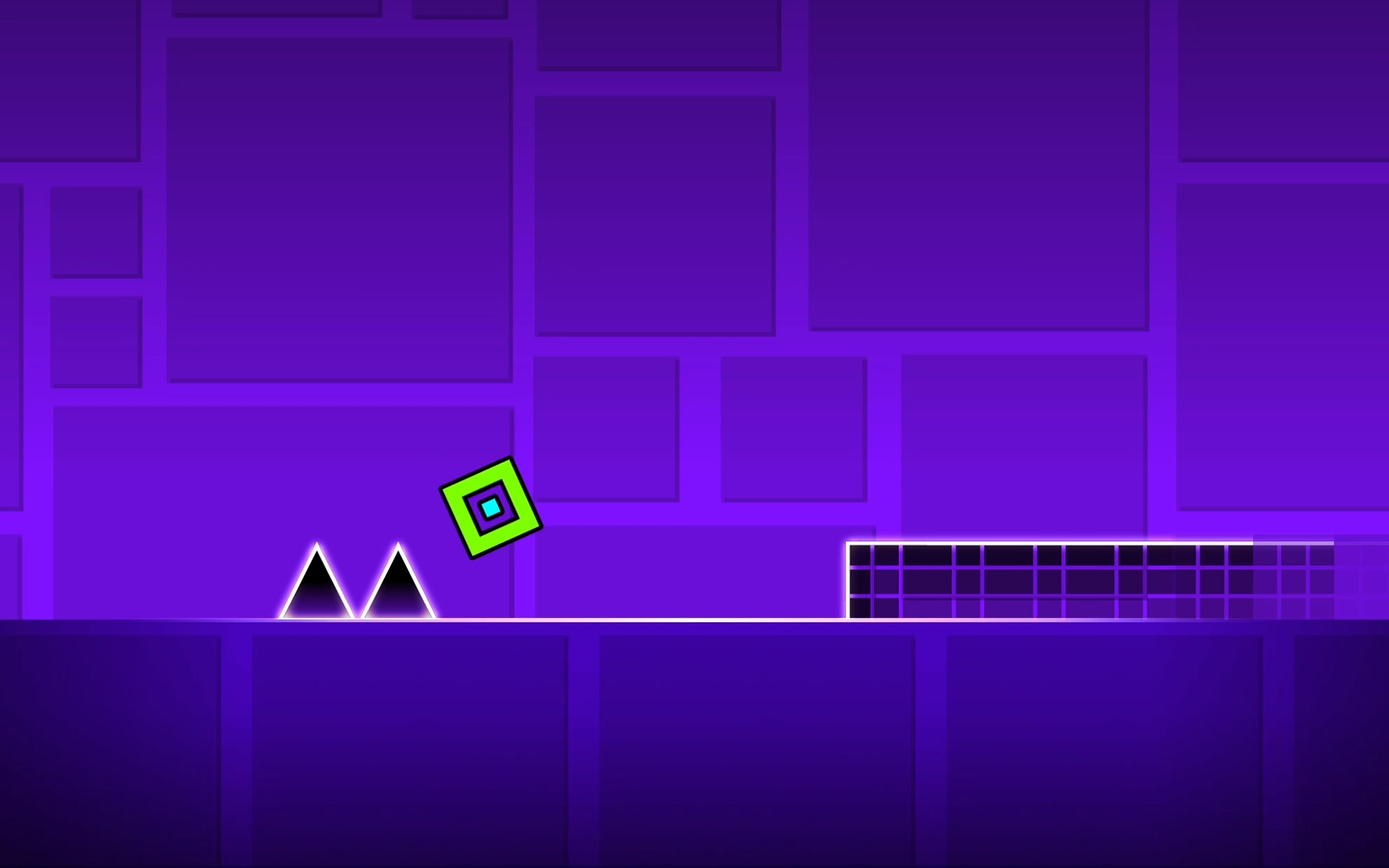Block2: (849, 541, 1363, 620)
Player: (440, 456, 543, 559)
Spike: (277, 542, 355, 618), (359, 542, 435, 618)
